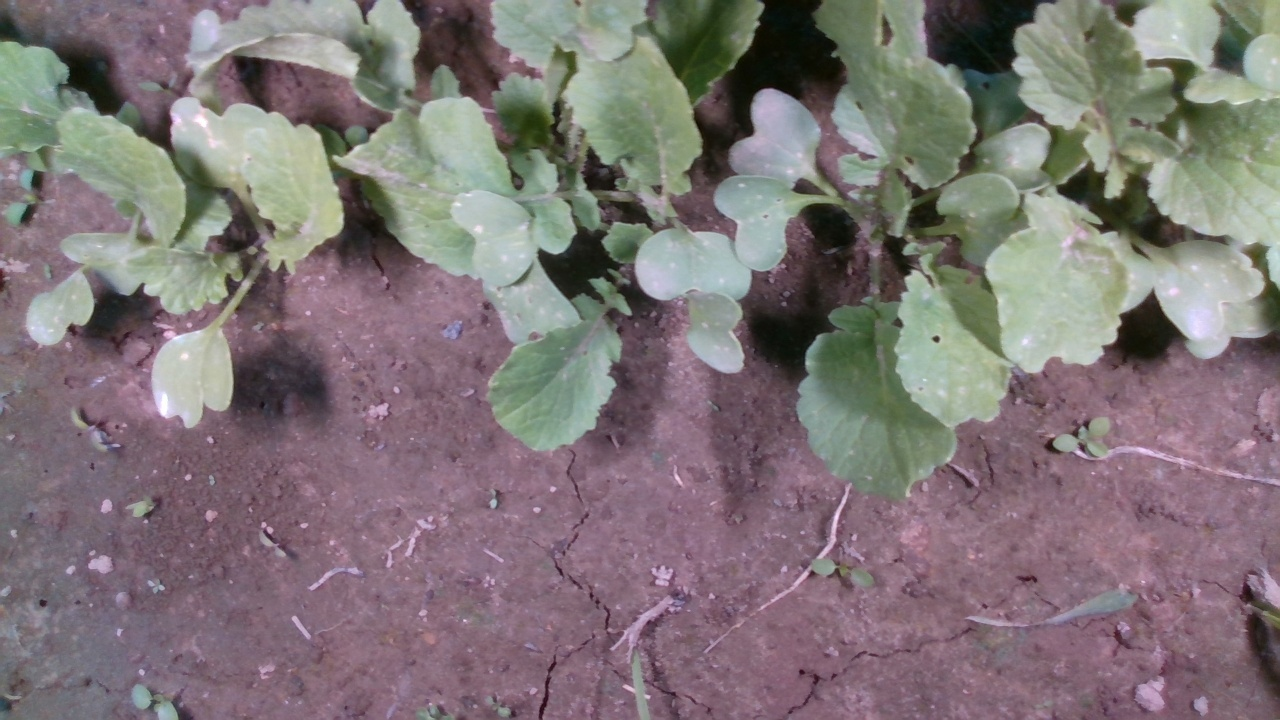weed: (1044, 415, 1116, 461)
